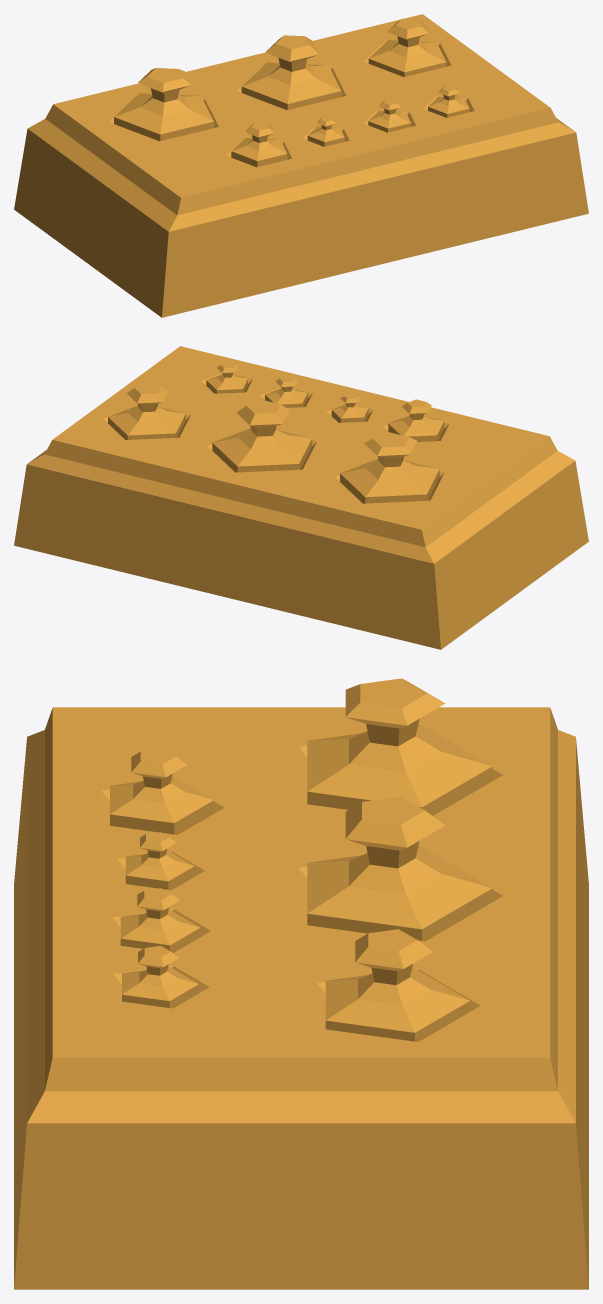
File: SM_Scale_Weights.fbx
3 views of the same model, one above another, from view 1: azimuth 30°, elevation 25°; view 2: azimuth 150°, elevation 25°; view 3: azimuth 270°, elevation 25° (orthographic). The views are drawn at different scales.
Parts seen in each view (by area): view 1: scale-weights-base, scale-weights-weight-b, scale-weights-weight-a, scale-weights-weight-c, scale-weights-weight-d, scale-weights-weight-f, scale-weights-weight-g, scale-weights-weight-e; view 2: scale-weights-base, scale-weights-weight-b, scale-weights-weight-a, scale-weights-weight-c, scale-weights-weight-d, scale-weights-weight-g, scale-weights-weight-f, scale-weights-weight-e; view 3: scale-weights-base, scale-weights-weight-b, scale-weights-weight-a, scale-weights-weight-c, scale-weights-weight-d, scale-weights-weight-f, scale-weights-weight-g, scale-weights-weight-e.
Part boxes in pixels (left/top/right/bottom): scale-weights-base: left=14, top=14, right=588, bottom=317; scale-weights-weight-b: left=241, top=35, right=341, bottom=110; scale-weights-weight-a: left=114, top=68, right=213, bottom=141; scale-weights-weight-c: left=368, top=18, right=446, bottom=76; scale-weights-weight-d: left=231, top=122, right=287, bottom=167; scale-weights-weight-f: left=368, top=99, right=411, bottom=132; scale-weights-weight-g: left=428, top=85, right=469, bottom=117; scale-weights-weight-e: left=307, top=116, right=344, bottom=146; scale-weights-base: left=14, top=346, right=588, bottom=649; scale-weights-weight-b: left=212, top=400, right=312, bottom=472; scale-weights-weight-a: left=340, top=432, right=439, bottom=503; scale-weights-weight-c: left=108, top=383, right=185, bottom=439; scale-weights-weight-d: left=388, top=399, right=444, bottom=441; scale-weights-weight-g: left=206, top=362, right=247, bottom=393; scale-weights-weight-f: left=265, top=376, right=307, bottom=407; scale-weights-weight-e: left=331, top=394, right=368, bottom=422; scale-weights-base: left=14, top=707, right=588, bottom=1289; scale-weights-weight-b: left=307, top=796, right=492, bottom=941; scale-weights-weight-a: left=307, top=678, right=492, bottom=815; scale-weights-weight-c: left=325, top=929, right=470, bottom=1041; scale-weights-weight-d: left=110, top=748, right=213, bottom=834; scale-weights-weight-f: left=120, top=888, right=200, bottom=952; scale-weights-weight-g: left=122, top=946, right=199, bottom=1008; scale-weights-weight-e: left=125, top=832, right=194, bottom=890.
Size of the model in its own units: 0.2889 by 0.0966 by 0.1734.
